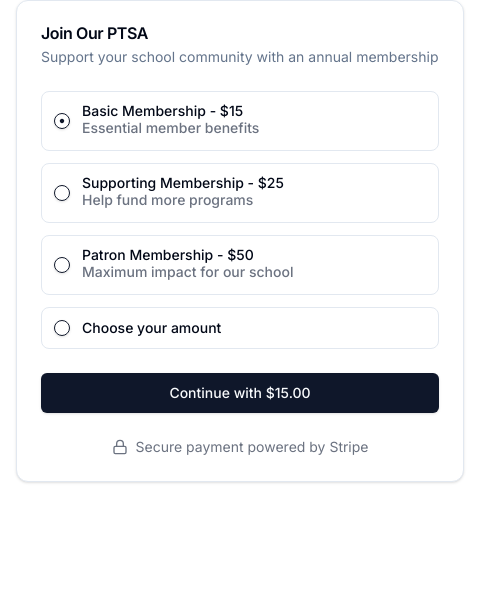
it: Stripe Test Card Scenarios › Validation Scenarios › should validate minimum payment amount
This screenshot has width=481, height=612.
Select custom amount
Click the radio button named "Choose your amount" next to "Choose your amount" at (62, 328), box [54,320,70,336]
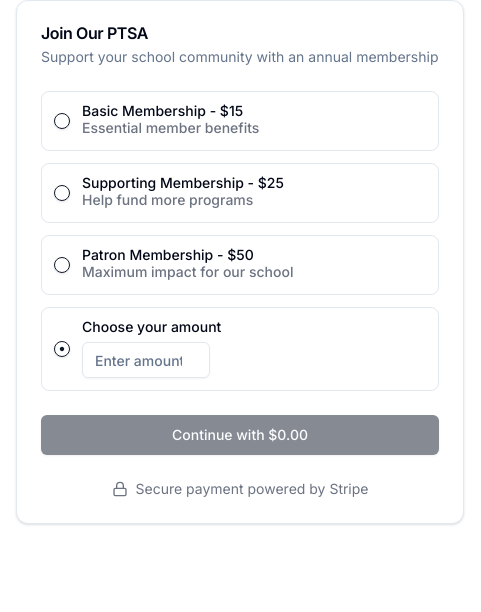
Type "0.50" into the number field with placeholder "Enter amount" at (146, 360), box [82,342,210,378]
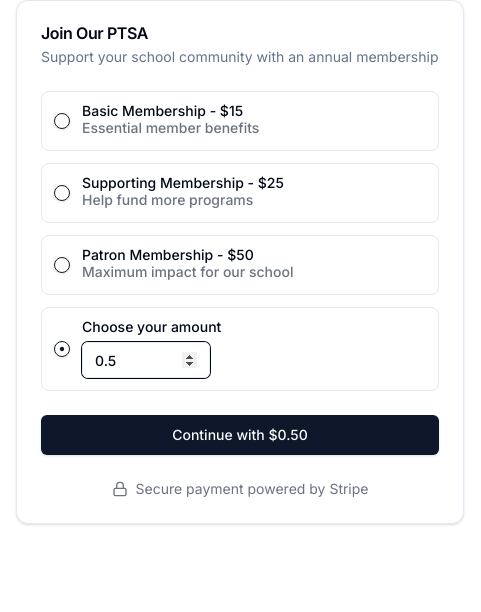
Click the button "Continue with $0.50" at (240, 435), box [41,415,439,455]
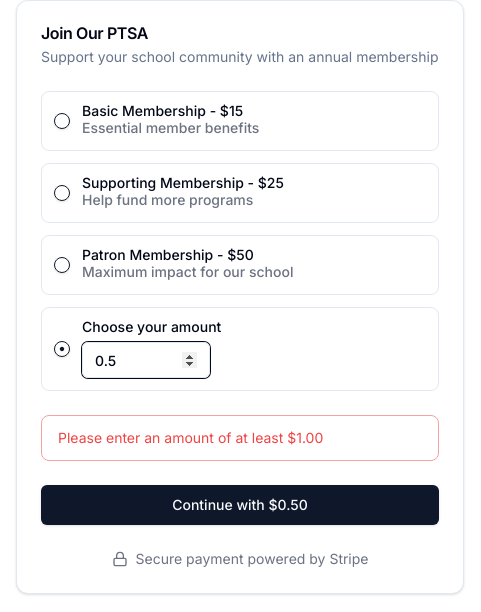
Expected: the text "Please enter an amount of at least $1.00" is shown, [58,429,323,446]
